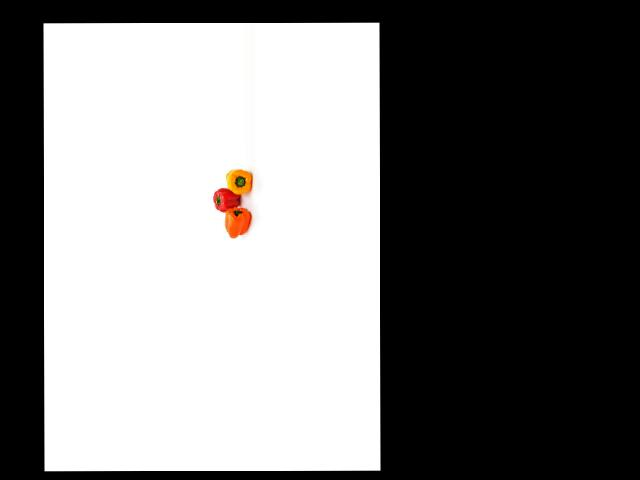bell_pepper: (224, 167, 252, 198)
